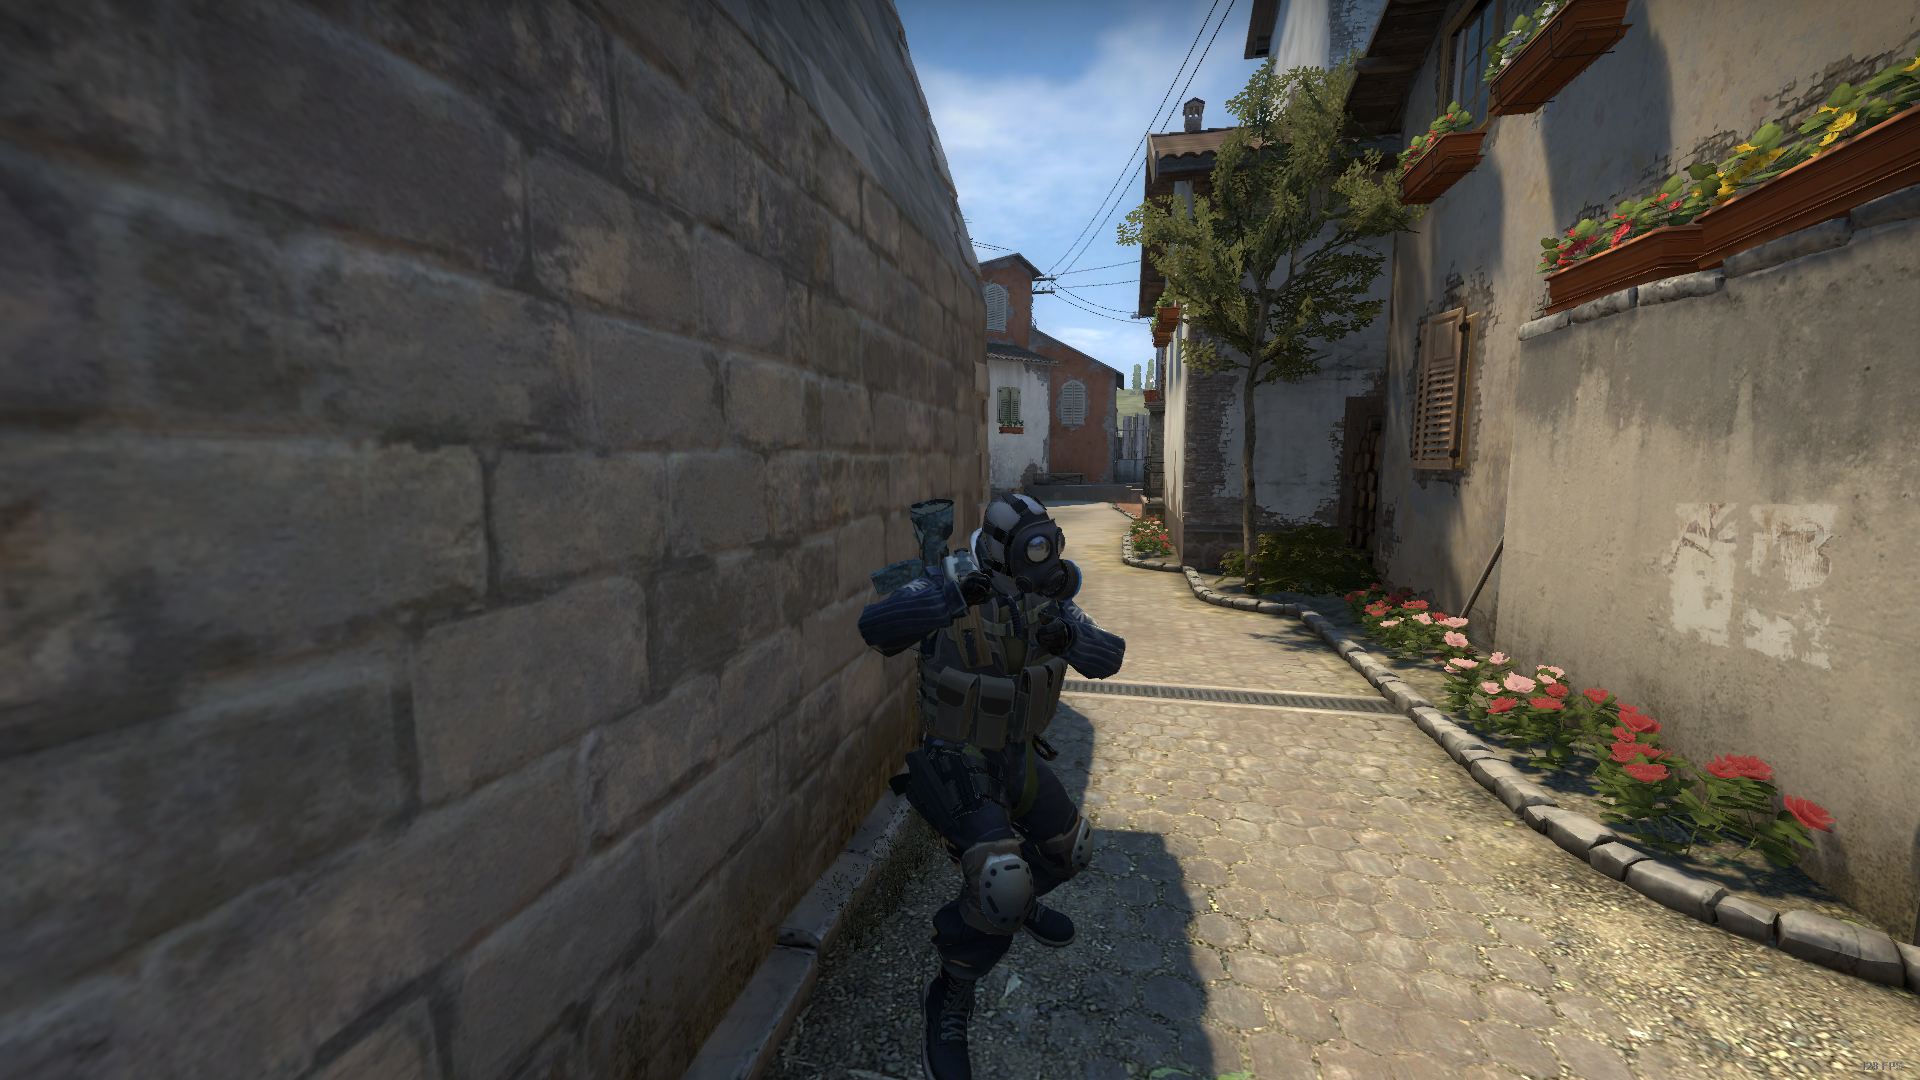ct: (855, 491, 1130, 1076)
